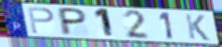1: (93, 7, 116, 39), (157, 11, 175, 41)
2: (121, 9, 151, 40)
K: (184, 13, 212, 42)
P: (58, 6, 88, 37), (26, 6, 56, 35)
